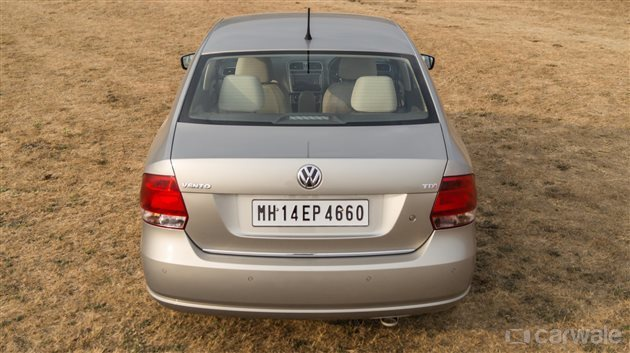plate: (251, 187, 375, 234)
